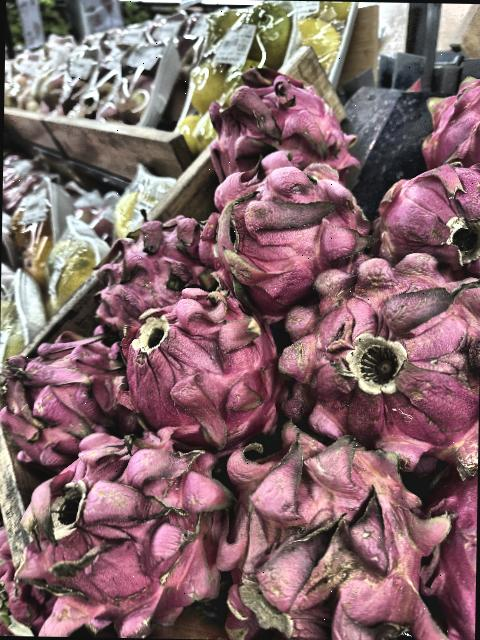buah-naga-matang: (215, 425, 444, 640), (15, 438, 226, 640), (282, 255, 480, 460), (113, 295, 281, 440), (196, 151, 358, 298), (202, 56, 362, 182), (0, 332, 135, 464), (86, 204, 220, 319), (379, 156, 480, 276), (422, 70, 480, 165)
